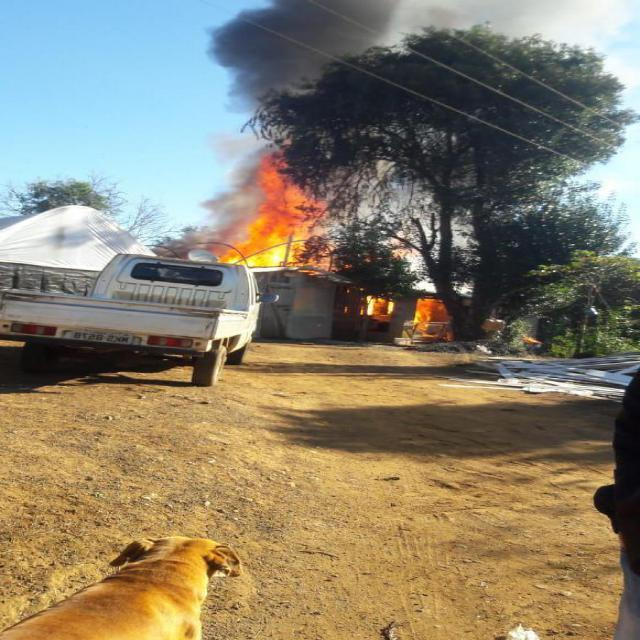Fire: (207, 149, 333, 268), (411, 302, 434, 332)
